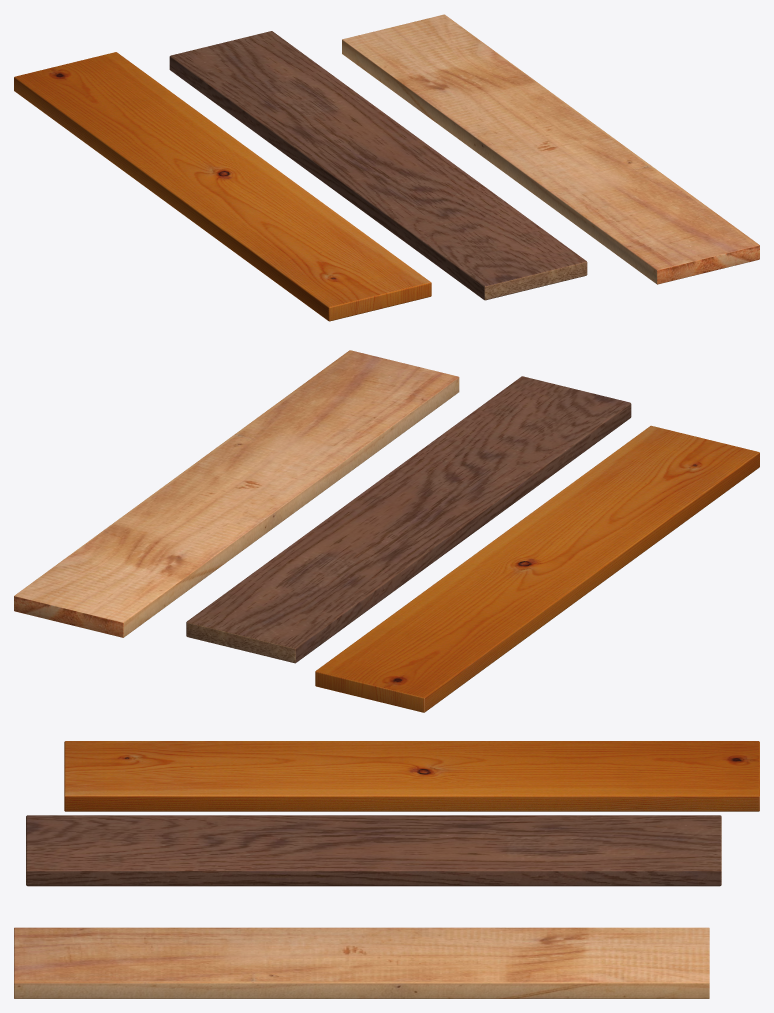
File: planks_of_wood.glb
3 renders of one model, top to bottom at view 1: azimuth 30°, elevation 25°; view 2: azimuth 150°, elevation 25°; view 3: azimuth 270°, elevation 25°, orthographic. The views are drawn at different scales.
Visible parts, largest first — view 1: Cube.002, Cube.007, Cube.005; view 2: Cube.002, Cube.007, Cube.005; view 3: Cube.002, Cube.007, Cube.005.
Part boxes in pixels (<box>): Cube.002: <box>342,14,759,284</box>; Cube.007: <box>169,31,587,300</box>; Cube.005: <box>14,52,431,321</box>; Cube.002: <box>14,350,459,637</box>; Cube.007: <box>186,376,631,663</box>; Cube.005: <box>315,425,759,712</box>; Cube.002: <box>14,927,709,998</box>; Cube.007: <box>26,815,721,886</box>; Cube.005: <box>64,741,759,811</box>.
Bounding box in the file's own units: 1.87 × 0.1546 × 2.68.
3 materials, 3 textured.
